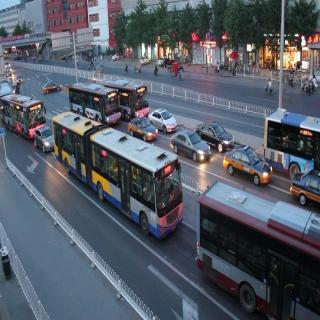BigCar: (52, 122, 175, 256), (194, 183, 317, 317), (265, 108, 320, 171), (66, 84, 117, 122), (2, 96, 43, 141), (117, 77, 150, 117)
Car: (224, 144, 274, 192), (172, 128, 213, 170), (196, 120, 234, 154), (289, 169, 320, 204), (129, 115, 157, 144), (151, 105, 175, 134), (33, 125, 53, 152), (43, 80, 61, 95), (94, 66, 105, 76), (16, 74, 24, 86), (112, 52, 119, 62)
